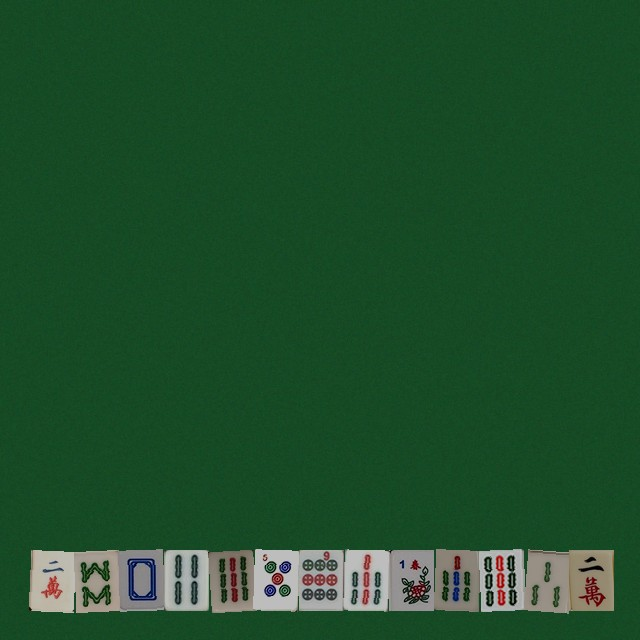tile: (28, 549, 73, 610), (73, 549, 118, 610), (118, 549, 163, 610), (163, 549, 208, 610), (208, 549, 253, 610), (253, 549, 298, 610), (298, 549, 343, 610), (343, 549, 388, 610), (388, 549, 433, 610), (433, 549, 478, 610), (478, 549, 523, 610), (523, 549, 568, 610), (568, 549, 613, 610)
